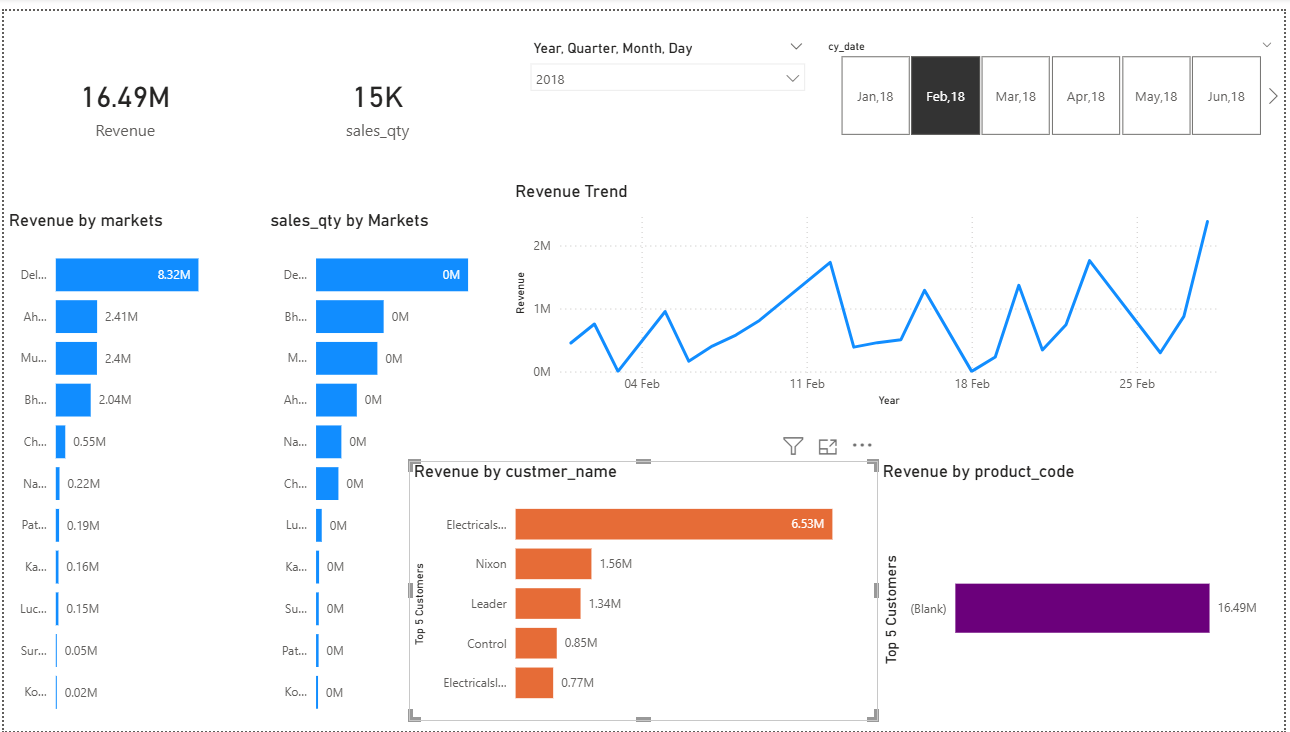

This screenshot's page, from the dashboard's own definition file:
{"tool":"powerbi","page":{"name":"Page 1","canvas":[1280,720],"ordinal":0},"visuals":[{"type":"card","fields":{"Values":["BaseMeasures.Revenue"]},"box":[1.4,0,240.1,189.4],"z":0},{"type":"barChart","fields":{"Y":["BaseMeasures.Revenue"],"Category":["customers.custmer_name"]},"box":[0,199,240.1,521.4],"z":1000},{"type":"card","fields":{"Values":["BaseMeasures.sales_qty"]},"box":[253.9,0,240.1,189.4],"z":2000},{"type":"barChart","title":"Revenue by markets","fields":{"Y":["BaseMeasures.Revenue"],"Category":["markets.markets_name"]},"box":[0,199,240.1,521.4],"z":3000},{"type":"barChart","title":"sales_qty by Markets","fields":{"Y":["BaseMeasures.sales_qty"],"Category":["markets.markets_name"]},"box":[260.7,199,233.3,521.4],"z":4000},{"type":"slicer","fields":{"Values":["date.cy_date"]},"box":[811,23.3,469.3,107],"z":5000},{"type":"slicer","fields":{"Values":["date.date.Variation.Date Hierarchy.Year","date.date.Variation.Date Hierarchy.Quarter","date.date.Variation.Date Hierarchy.Month","date.date.Variation.Date Hierarchy.Day"]},"box":[516,23.3,295,71.4],"z":6000},{"type":"barChart","fields":{"Y":["BaseMeasures.Revenue"],"Category":["customers.custmer_name"]},"box":[404.8,450.1,469.3,259.3],"z":7000},{"type":"barChart","fields":{"Y":["BaseMeasures.Revenue"],"Category":["products.product_code"]},"box":[874.1,450.1,391.1,270.3],"z":8000},{"type":"lineChart","title":"Revenue Trend","fields":{"Y":["BaseMeasures.Revenue"],"Category":["date.date.Variation.Date Hierarchy.Year","date.date.Variation.Date Hierarchy.Quarter","date.date.Variation.Date Hierarchy.Month","date.date.Variation.Date Hierarchy.Day"]},"box":[506.3,170.2,720.4,230.5],"z":9000}]}

Visuals, with their boxes in screenshot pixels (x1, y1, x2, y2), scaled from the page's 1280x720 canvas onto the 1290x732 screenshot:
card - BaseMeasures.Revenue: (1,0,243,193)
barChart - BaseMeasures.Revenue x customers.custmer_name: (0,202,242,731)
card - BaseMeasures.sales_qty: (256,0,498,193)
"Revenue by markets" barChart: (0,202,242,731)
"sales_qty by Markets" barChart: (263,202,498,731)
slicer - date.cy_date: (817,24,1289,132)
slicer - date.date.Variation.Date Hierarchy.Year x date.date.Variation.Date Hierarchy.Quarter: (520,24,817,96)
barChart - BaseMeasures.Revenue x customers.custmer_name: (408,458,881,721)
barChart - BaseMeasures.Revenue x products.product_code: (881,458,1275,731)
"Revenue Trend" lineChart: (510,173,1236,407)
